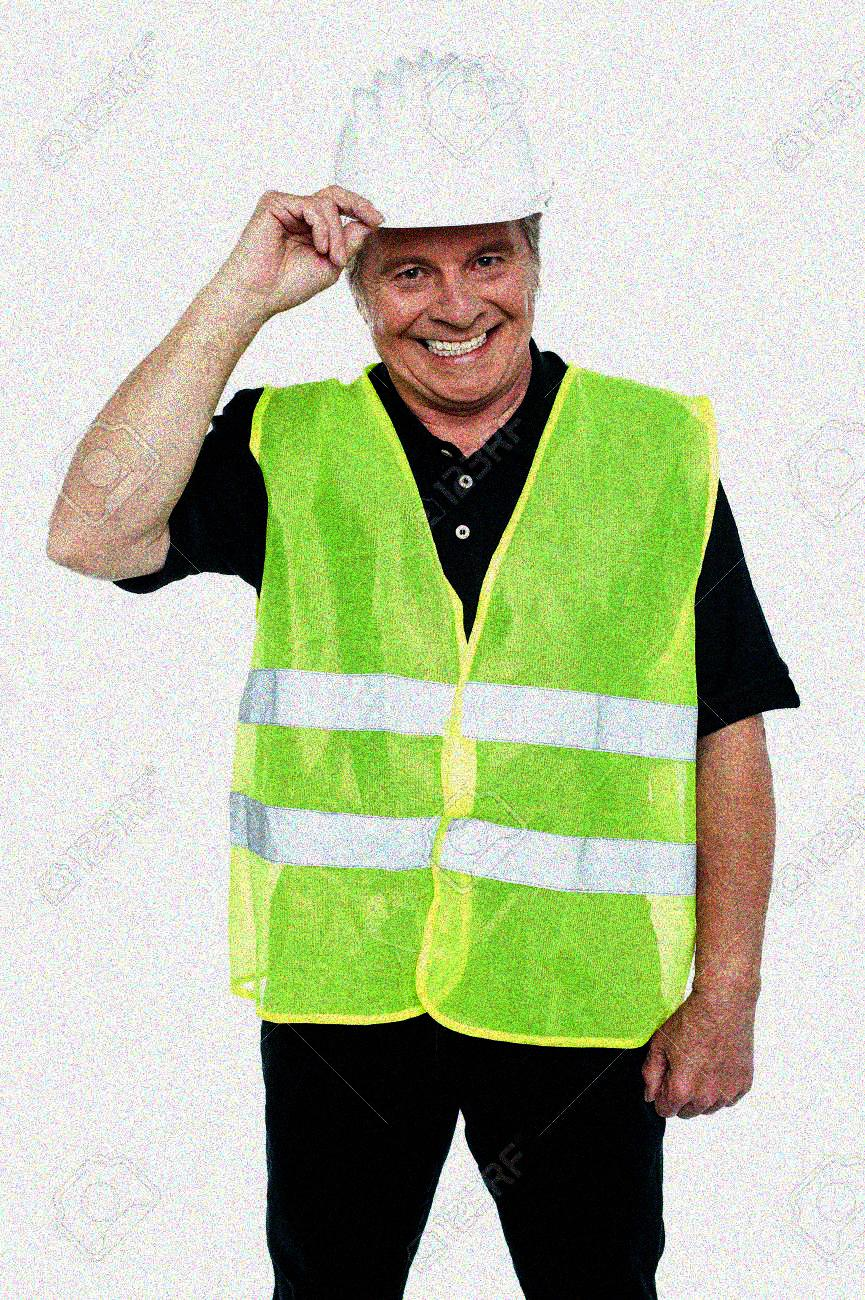helmet: (311, 51, 554, 417)
